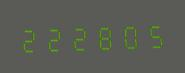eight: (93, 19, 117, 52)
five: (143, 18, 167, 50)
two: (68, 20, 92, 53), (17, 22, 41, 54), (42, 21, 66, 53)
zero: (118, 19, 142, 51)
